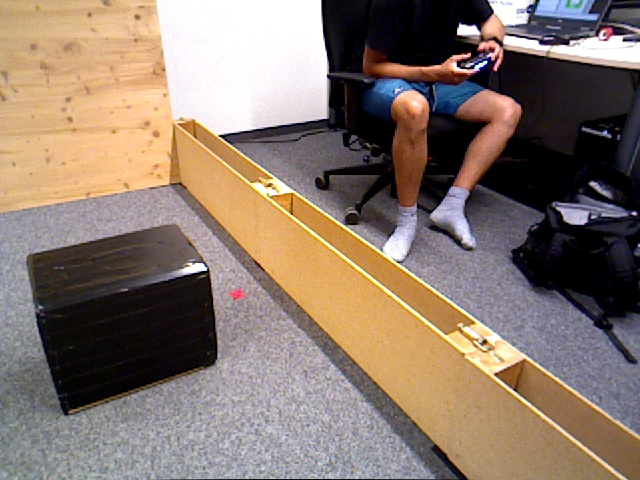push: (24, 226, 218, 412)
